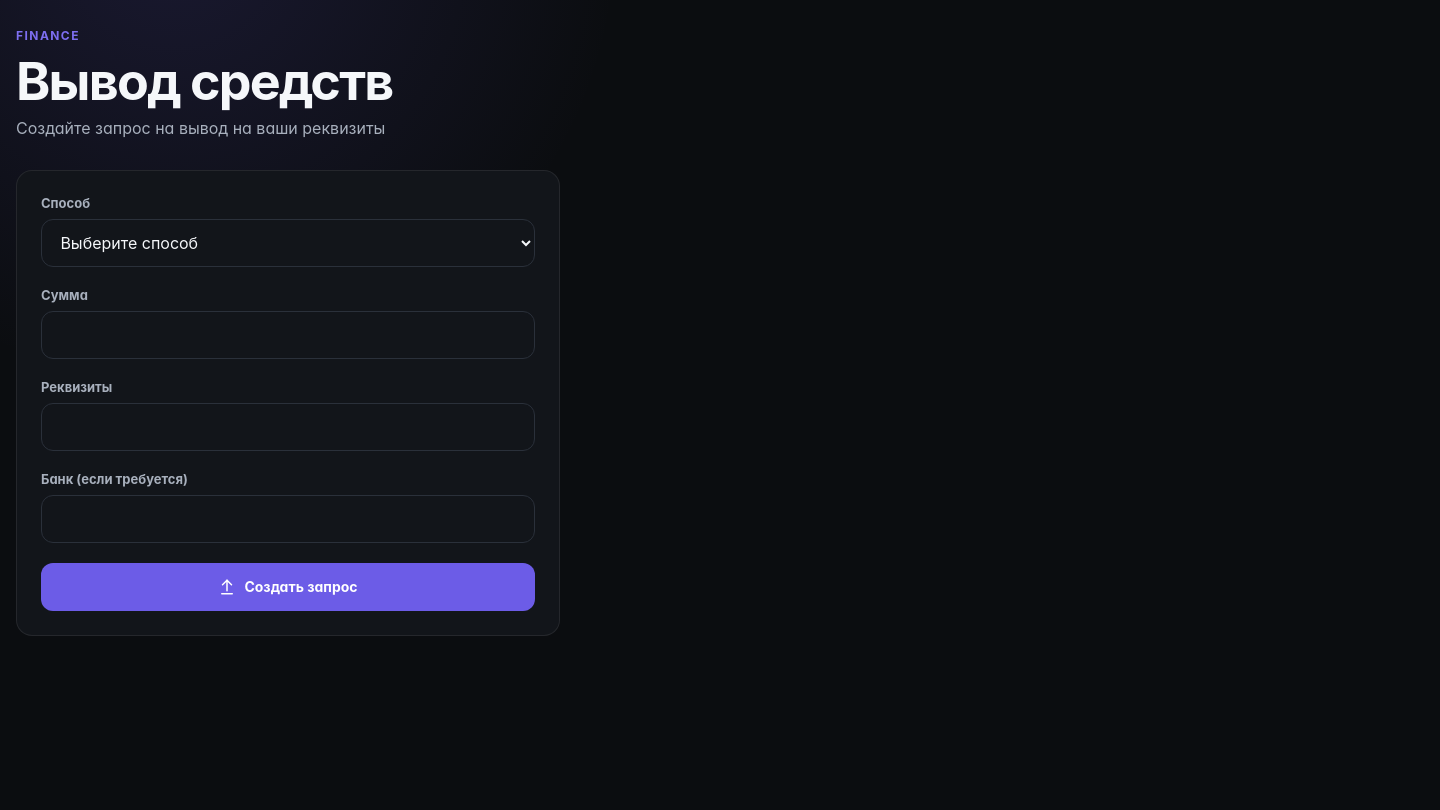
PaymentsPage › keeps a created withdrawal successful when the account refresh fails
This screenshot has width=1440, height=810.
Select "Bank" in the dropdown labelled "Способ": (288, 243) [41, 219, 535, 267]
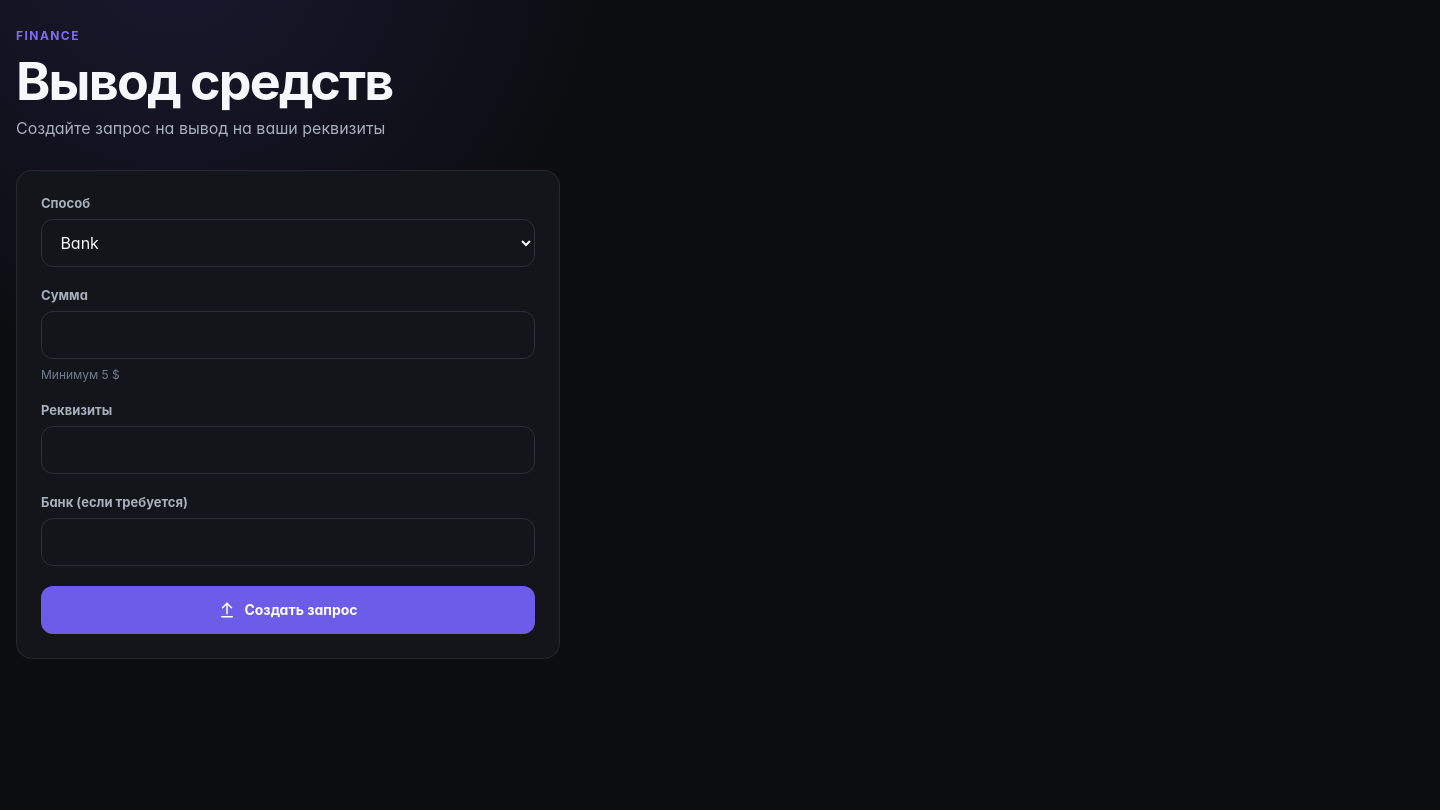
In the number field labelled "Сумма": (288, 335) [41, 311, 535, 359], type "10"
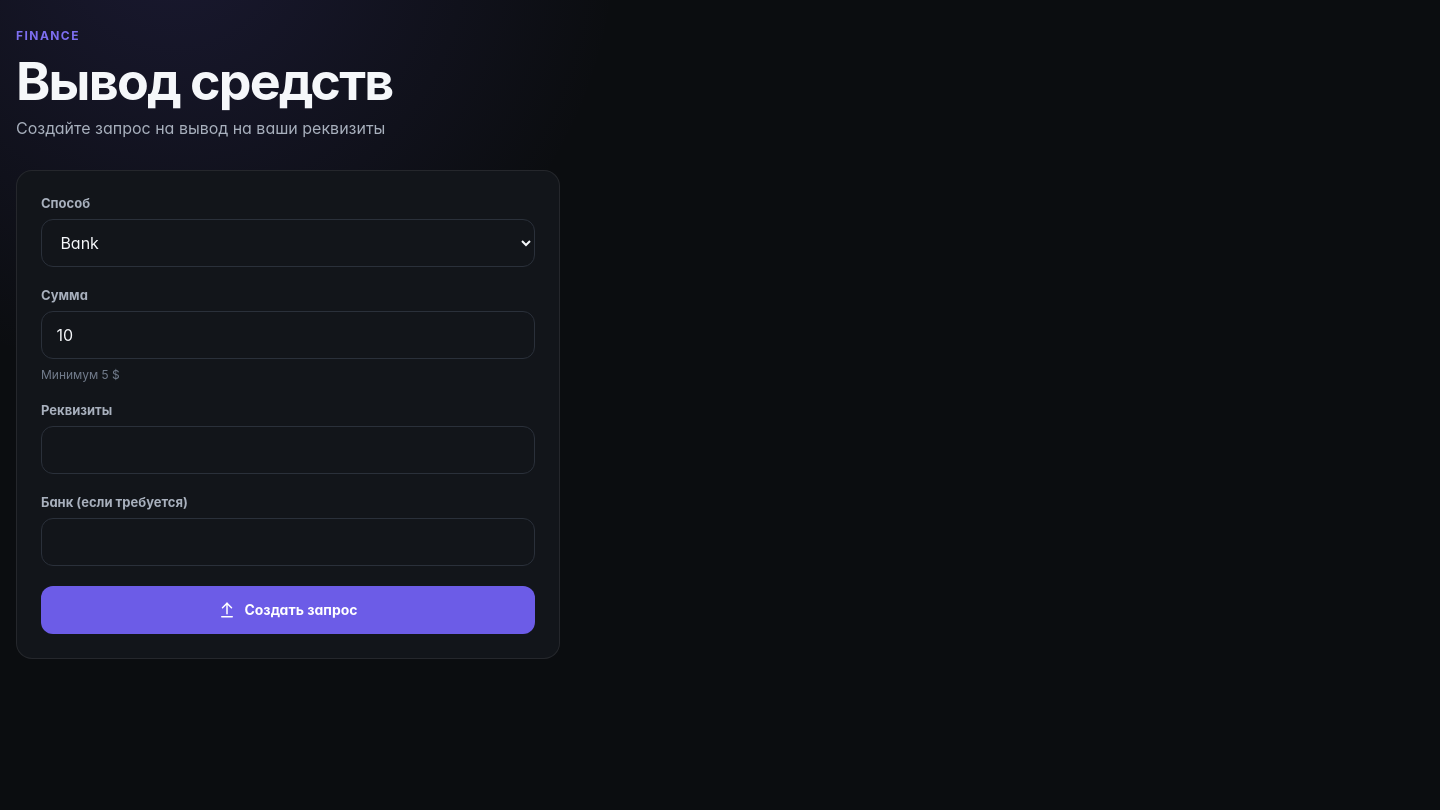
In the field labelled "Реквизиты": (288, 450) [41, 426, 535, 474], type "IBAN123"
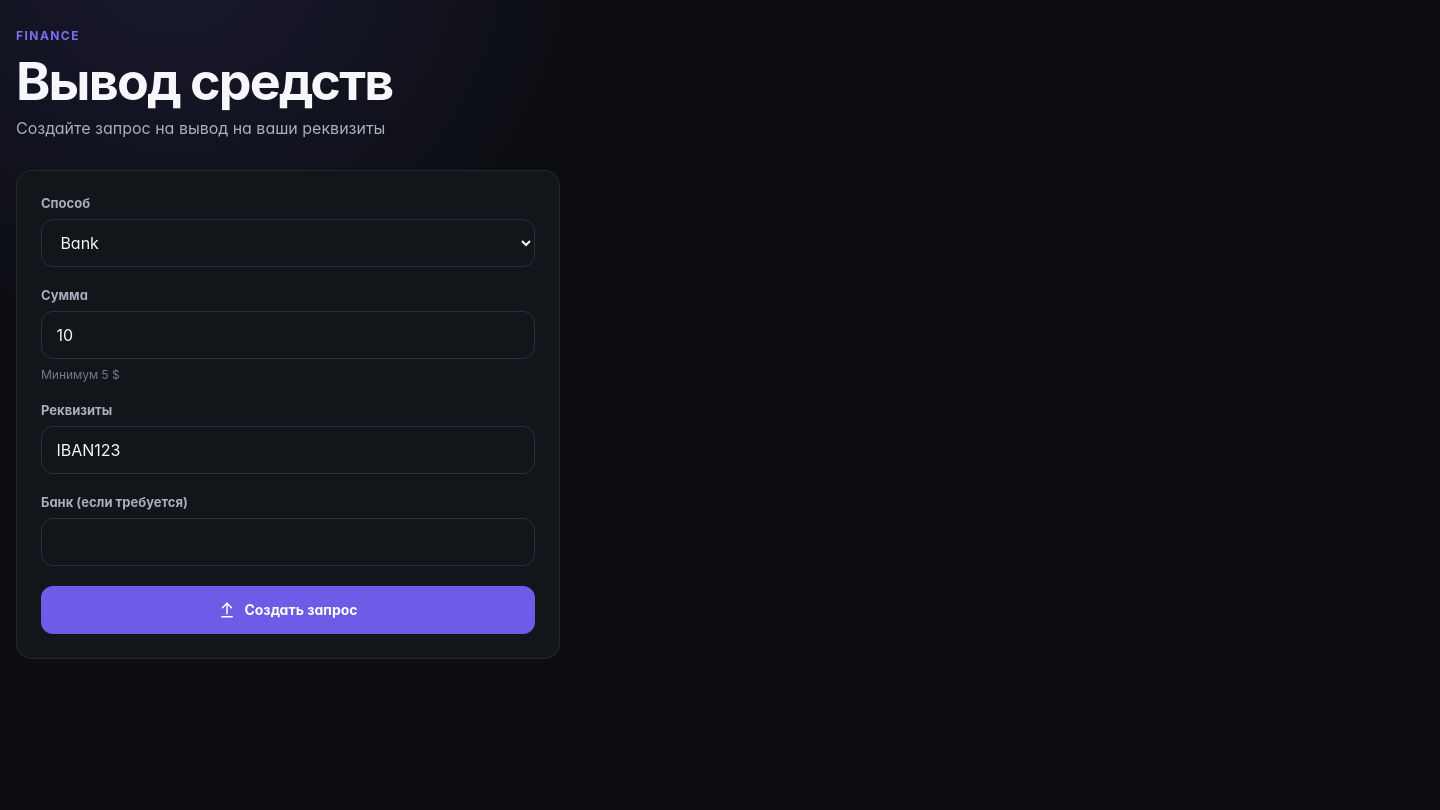
Click the button "Создать запрос": (288, 610) [41, 586, 535, 634]
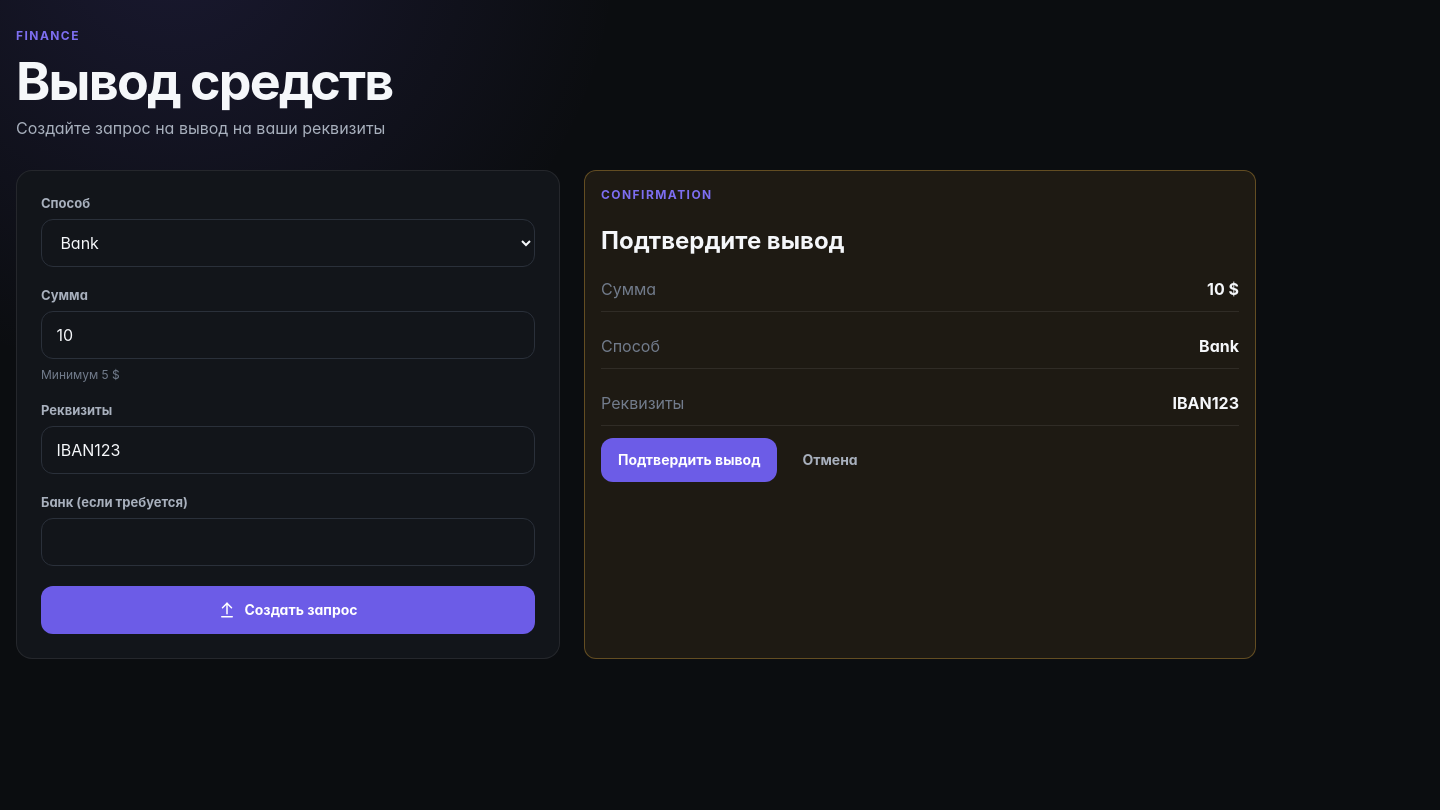
Click the button "Подтвердить вывод": (689, 460) [601, 438, 777, 482]
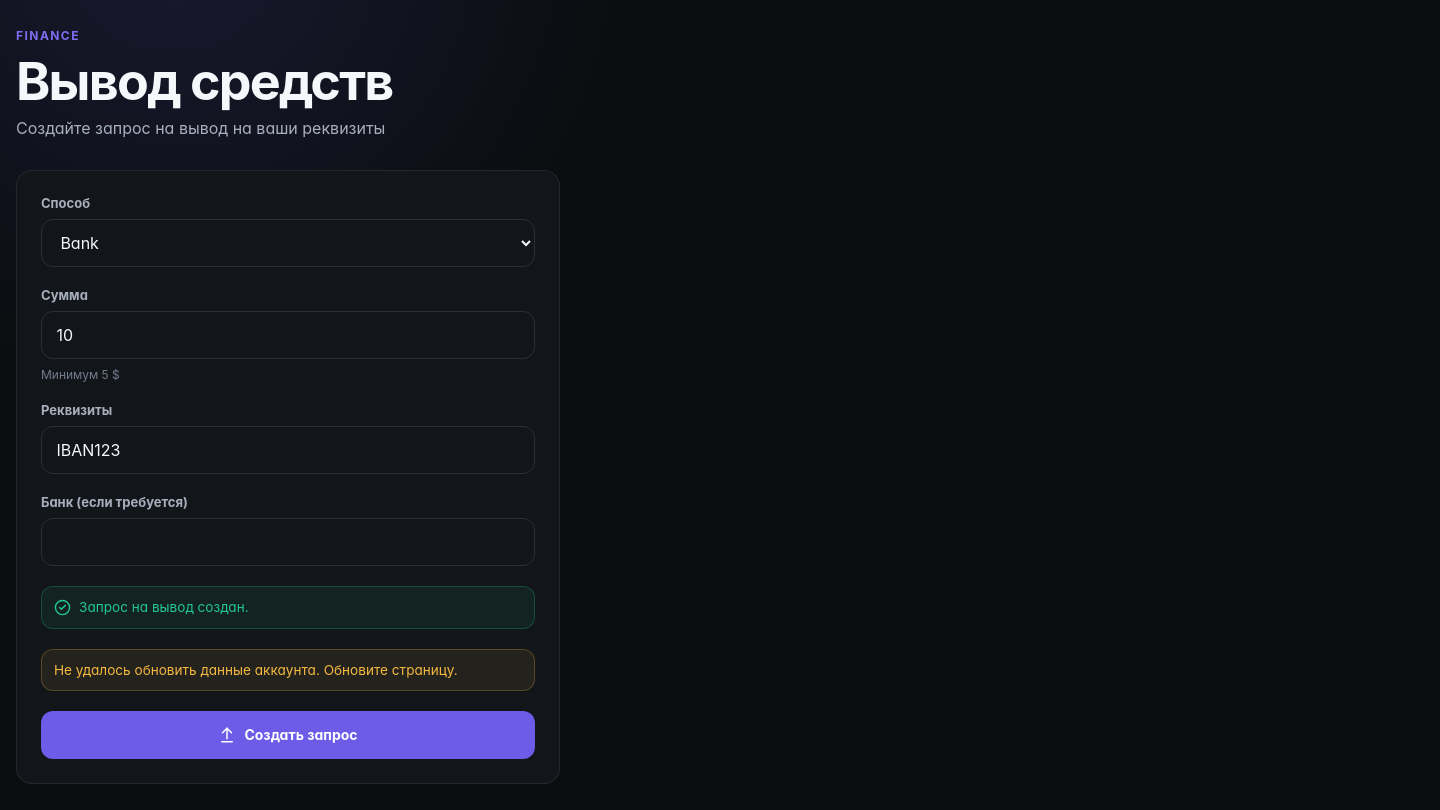
Expected: the text "Запрос на вывод создан." is shown, [41, 586, 535, 629]
Expected: the text "Не удалось обновить данные аккаунта. Обновите страницу." is shown, [41, 649, 535, 691]
